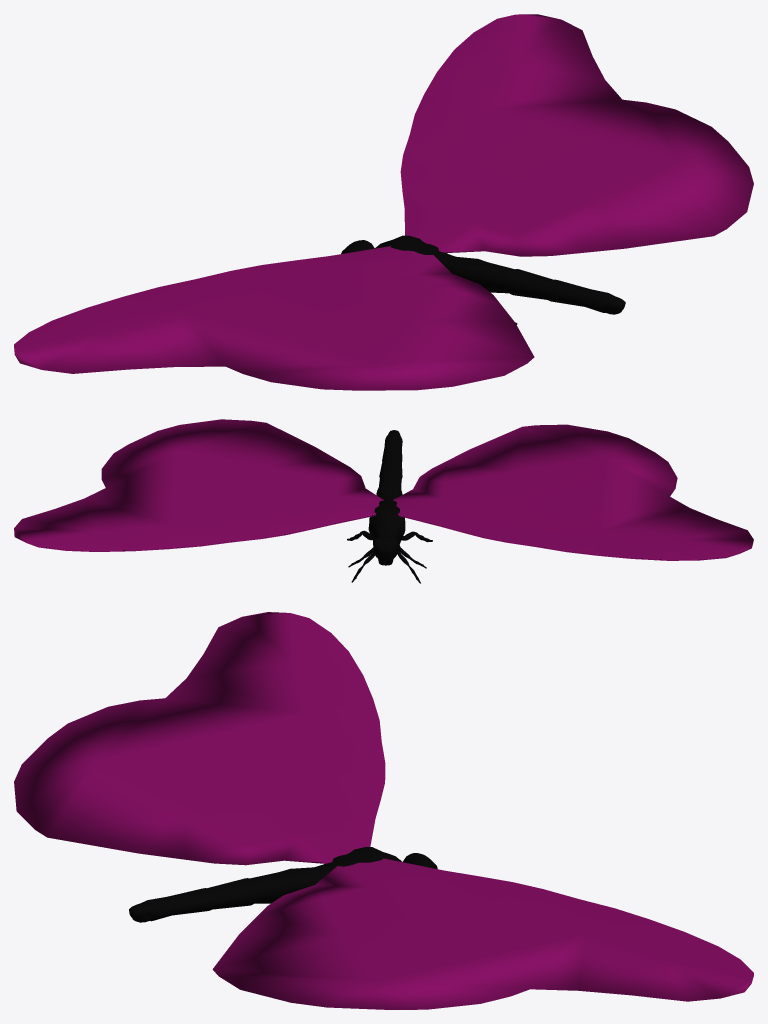
The model's file is butterfly.obj.
3 views of the same model, one above another, from view 1: azimuth 30°, elevation 25°; view 2: azimuth 150°, elevation 25°; view 3: azimuth 270°, elevation 25° (orthographic). The views are drawn at different scales.
Parts seen in each view (by area): view 1: MONARCH:mon_body1; view 2: MONARCH:mon_body1; view 3: MONARCH:mon_body1.
Boxes of the visible parts, bbox=[...] form: MONARCH:mon_body1: bbox=[14, 14, 753, 390]; MONARCH:mon_body1: bbox=[14, 419, 753, 583]; MONARCH:mon_body1: bbox=[14, 612, 753, 1009].
Bounding box in the file's own units: 10.35 × 1.33 × 8.27.
